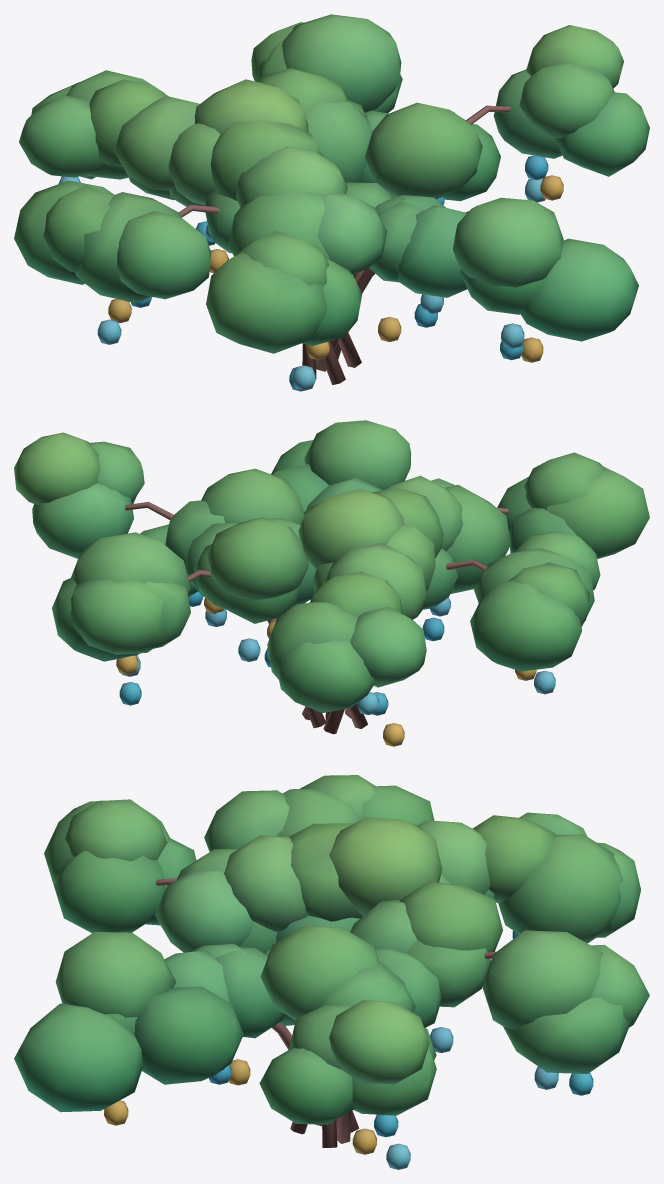
Rendered from verdant_bush_berry_b.glb.
3 views of the same model, one above another, from view 1: azimuth 30°, elevation 25°; view 2: azimuth 150°, elevation 25°; view 3: azimuth 270°, elevation 25° (orthographic). The views are drawn at different scales.
Parts seen in each view (by area): view 1: verdant_bush_berry_b; view 2: verdant_bush_berry_b; view 3: verdant_bush_berry_b.
Boxes of the visible parts, x1,y1,x2,y2 form: verdant_bush_berry_b: (14,14,649,391); verdant_bush_berry_b: (14,420,649,746); verdant_bush_berry_b: (14,775,649,1169).
Bounding box in the file's own units: 3.05 × 1.36 × 2.73.
